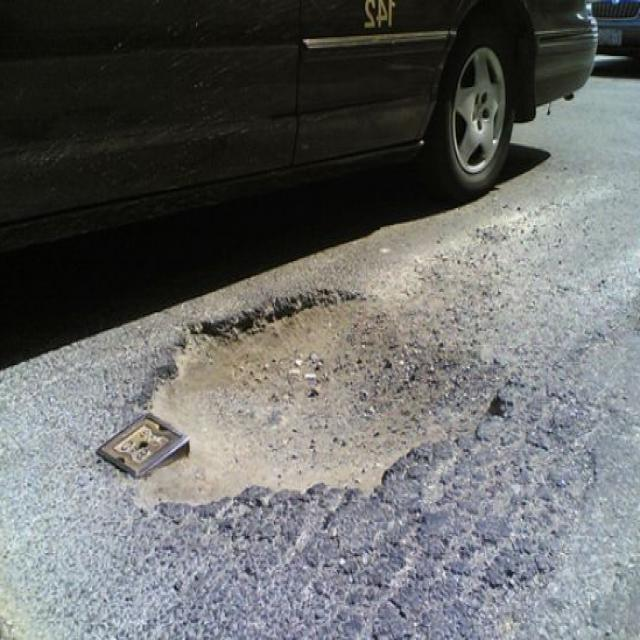Pothole: (114, 283, 518, 510)
